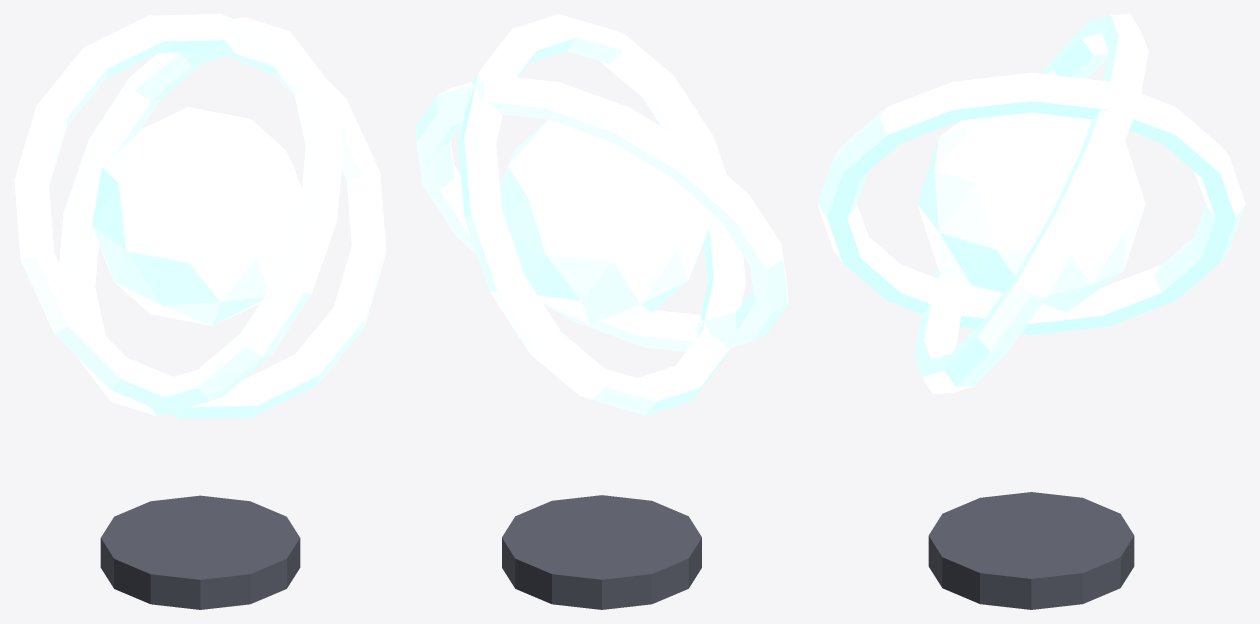
Rendered from Pickup_Gravidade.fbx.
The picture shows the model from 3 angles, left to right: view 1: azimuth 30°, elevation 25°; view 2: azimuth 150°, elevation 25°; view 3: azimuth 270°, elevation 25°; orthographic projection. The views are drawn at different scales.
Visible parts, largest first — view 1: Pickup_Gravidade; view 2: Pickup_Gravidade; view 3: Pickup_Gravidade.
Boxes of the visible parts, left/top/right/bottom form: Pickup_Gravidade: left=14, top=14, right=386, bottom=609; Pickup_Gravidade: left=415, top=14, right=788, bottom=609; Pickup_Gravidade: left=817, top=14, right=1245, bottom=609.
Size of the model in its own units: 0.75 by 1.02 by 0.75.
